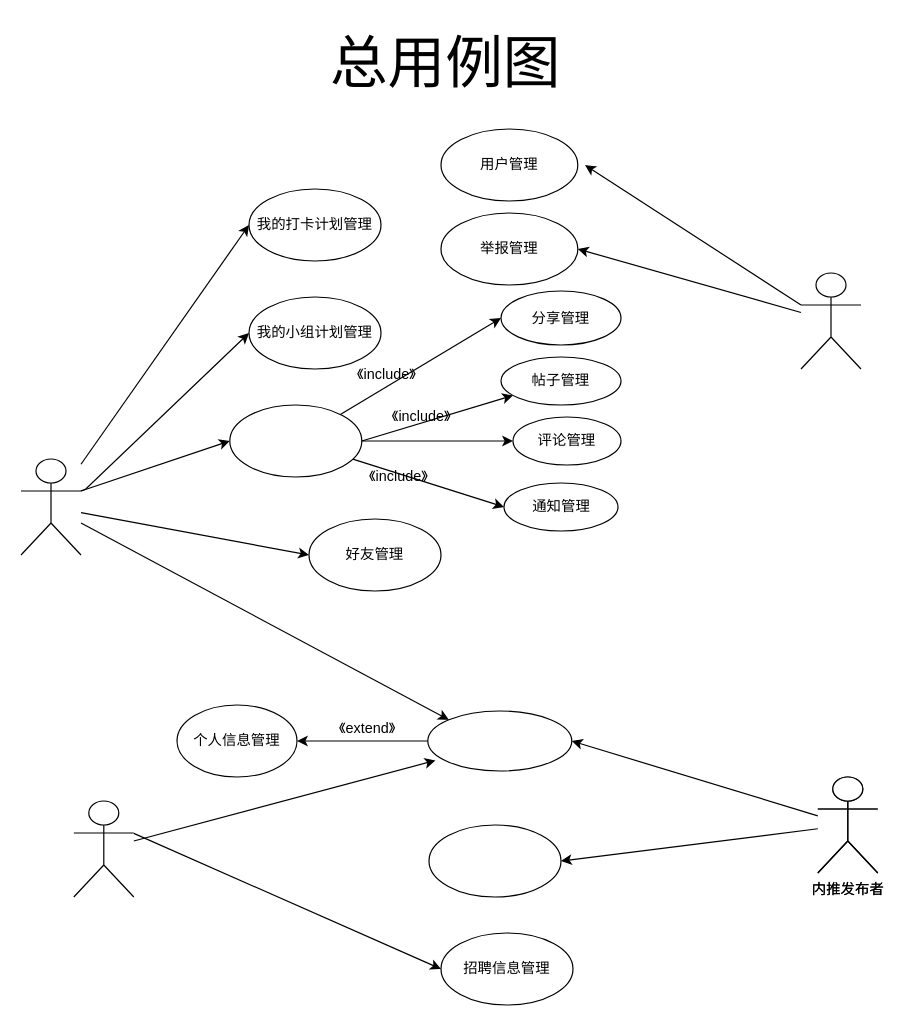
Image size: 905x1026. Some labels were removed from this diagram. The centre of each missing label's shape, as x and y in pixels:
"企业发布者" goes at point (103, 848).
"内推 信息管理" goes at point (494, 860).
"我的空间管理" goes at point (295, 440).
"用户" goes at point (50, 506).
"管理员" goes at point (830, 320).
"认证、注册和登录 管理" goes at point (499, 740).
